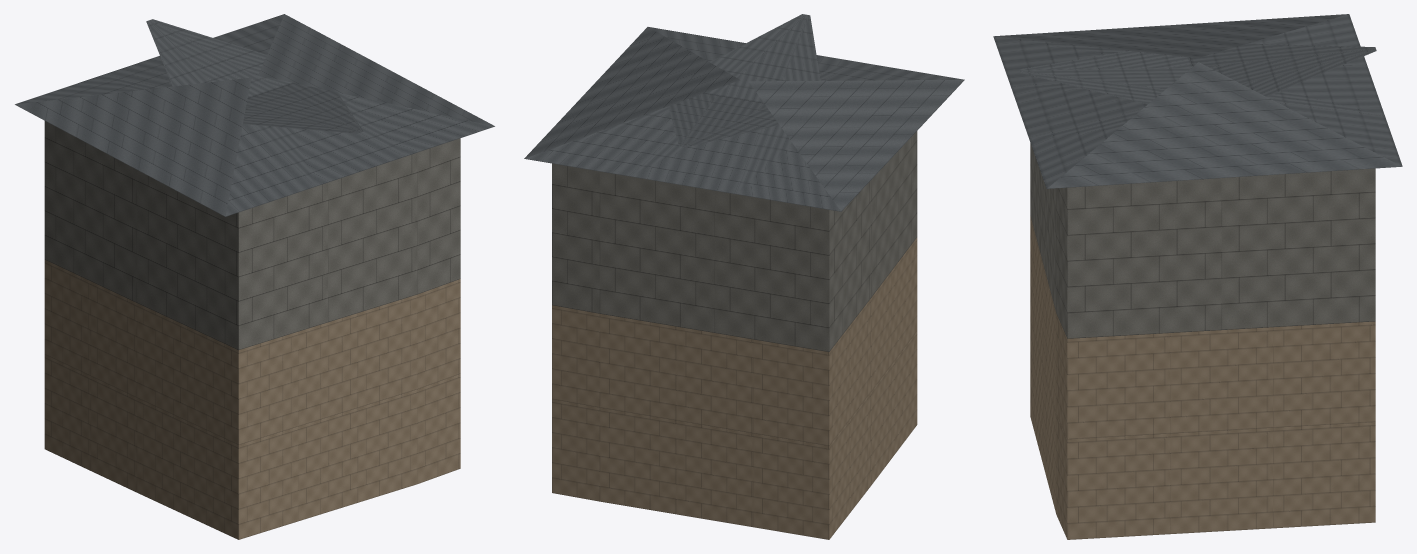
The model's file is bld_c28_-53_548.gltf.
3 renders of one model, left to right at view 1: azimuth 30°, elevation 25°; view 2: azimuth 150°, elevation 25°; view 3: azimuth 270°, elevation 25°, orthographic. The views are drawn at different scales.
Parts seen in each view (by area): view 1: bld_c28_-53_548; view 2: bld_c28_-53_548; view 3: bld_c28_-53_548.
Part boxes in pixels (x1=…): bld_c28_-53_548: x1=15, y1=14, x2=494, y2=539; bld_c28_-53_548: x1=524, y1=14, x2=964, y2=539; bld_c28_-53_548: x1=993, y1=14, x2=1402, y2=539.
Bounding box in the file's own units: 9.08 × 9.8 × 8.98.
3 materials, 3 textured.
